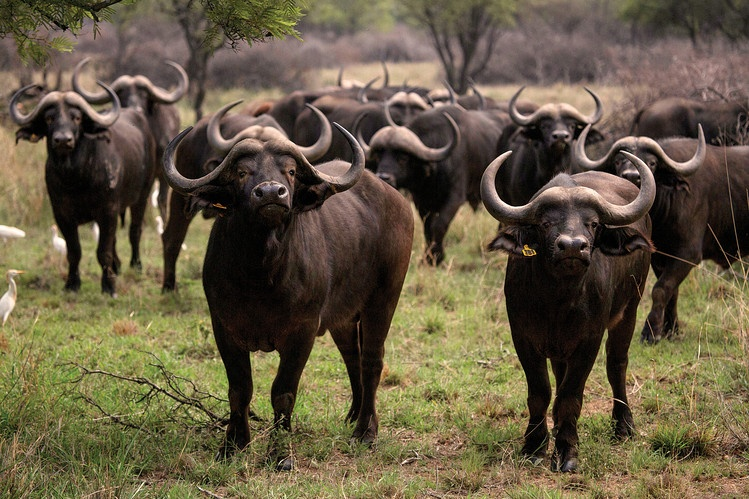buffalo: (163, 122, 415, 474), (481, 150, 659, 471), (571, 123, 748, 351), (8, 81, 159, 309), (353, 106, 502, 271), (494, 85, 604, 235)
